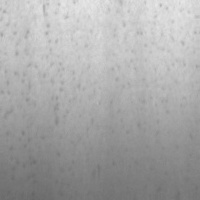pitted_surface: (67, 0, 196, 112), (0, 3, 67, 200)
